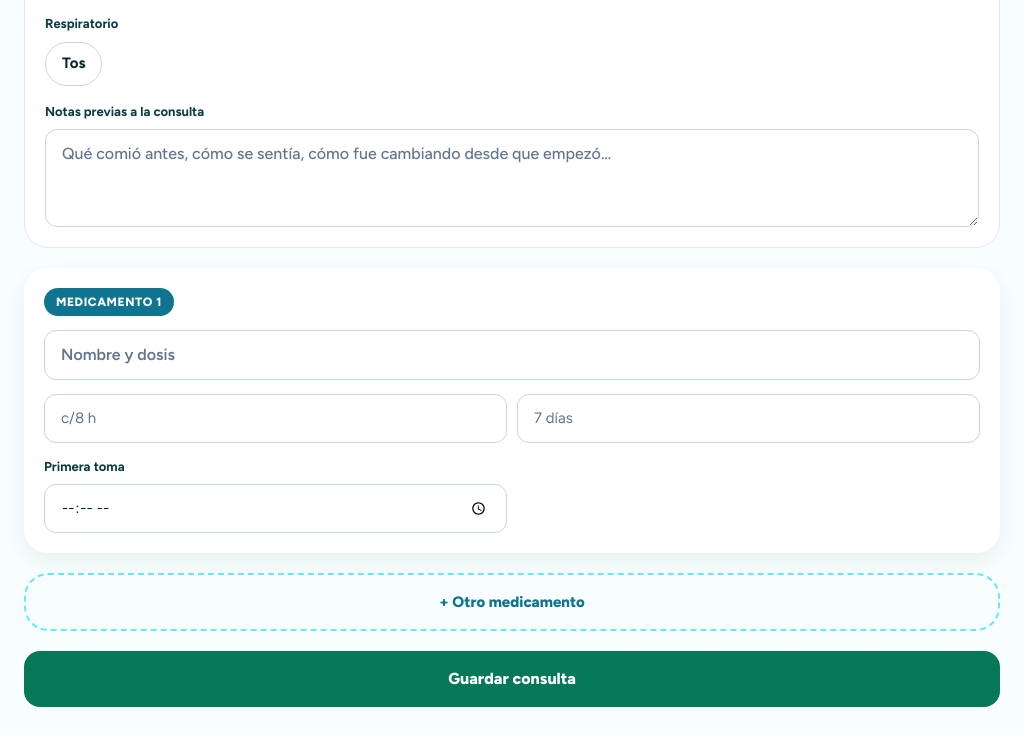
ConsultationForm › validation and saving › rejects a frequency or duration with no number in it
(page scrolled)
In the field with id "medications": x=276, y=418 [44,394,507,443], type "cada rato"
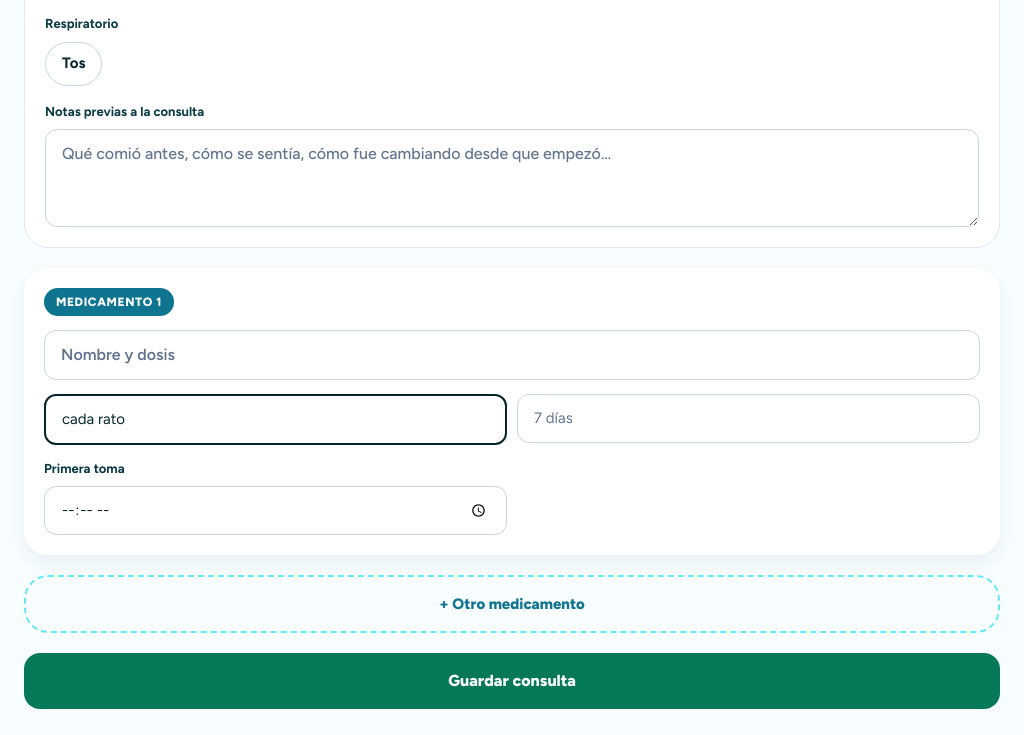
In the field with id "medications": x=748, y=418 [517,394,980,443], type "0 días"
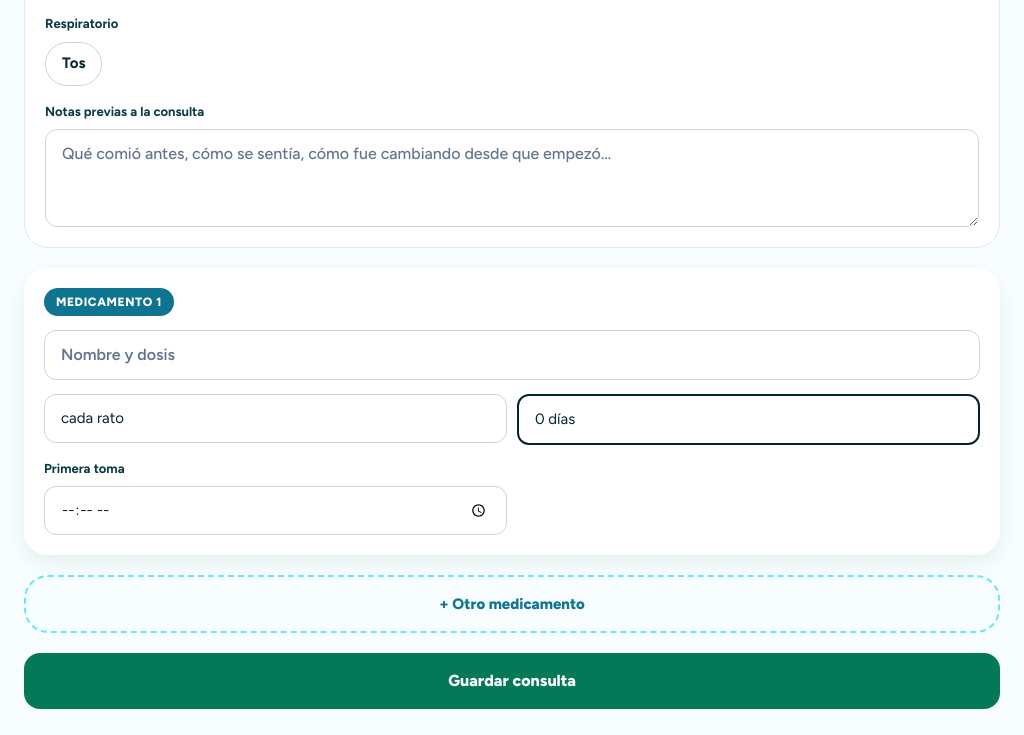
Click the button "Guardar consulta": x=512, y=681 [24,653,1000,709]
(page scrolled)
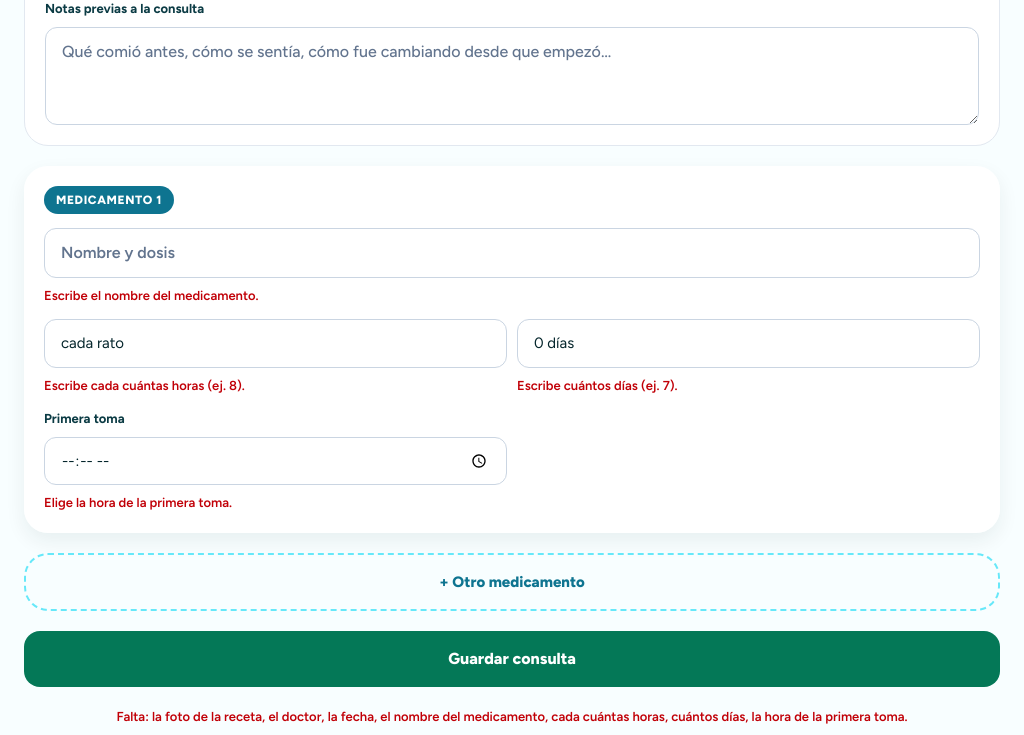
Expected: the text "Escribe cada cuántas horas (ej. 8)." is shown, [44,378,245,393]
Expected: the text "Escribe cuántos días (ej. 7)." is shown, [517,378,678,393]
